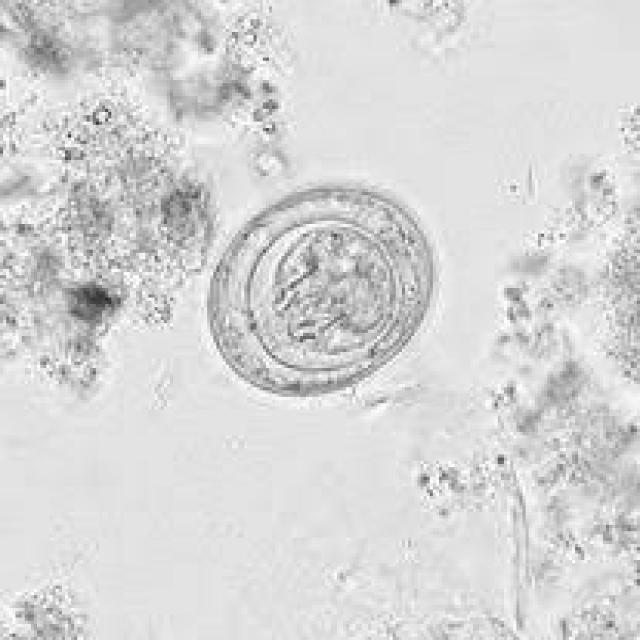Hymenolepis: (201, 174, 442, 408)
